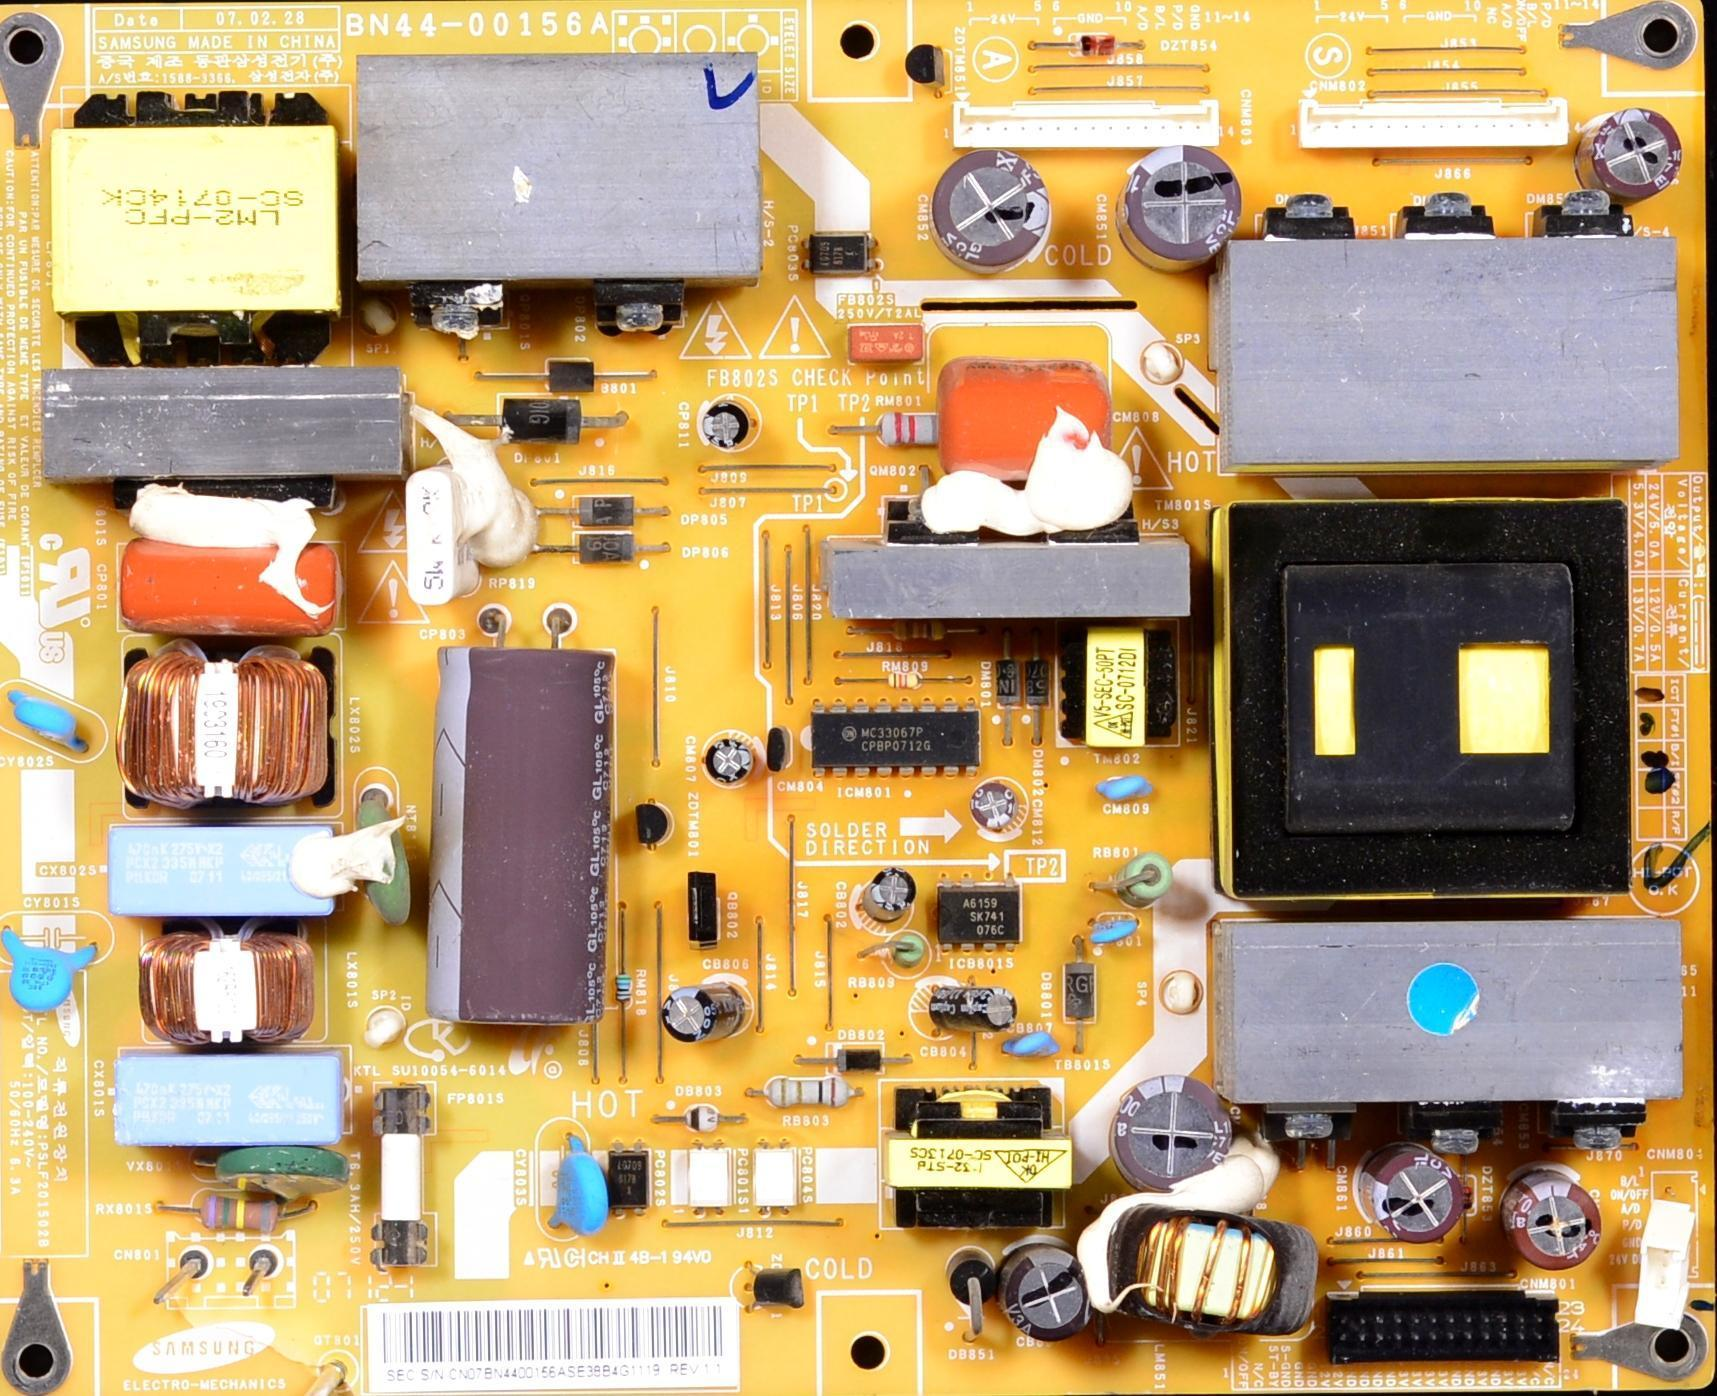Capacitor: (425, 640, 605, 1032), (1120, 147, 1245, 268), (936, 146, 1048, 278), (1112, 1079, 1240, 1189), (999, 1239, 1097, 1346), (350, 792, 422, 927), (1374, 1146, 1466, 1246), (1587, 107, 1684, 202), (1510, 1174, 1603, 1273), (3, 921, 94, 1020), (540, 1122, 609, 1241), (7, 687, 92, 766), (924, 977, 1023, 1038), (661, 980, 749, 1042), (701, 730, 759, 788), (699, 401, 749, 451), (865, 869, 914, 919), (1095, 907, 1140, 955), (974, 783, 1018, 832)
Connector: (1327, 1287, 1563, 1363), (1301, 98, 1567, 148), (951, 99, 1219, 144), (169, 1238, 291, 1307)
IC: (814, 696, 980, 777), (937, 878, 1023, 947)
Resistor: (153, 1191, 319, 1231), (824, 412, 963, 447), (746, 1073, 866, 1108), (1115, 850, 1174, 909), (832, 671, 977, 692)
